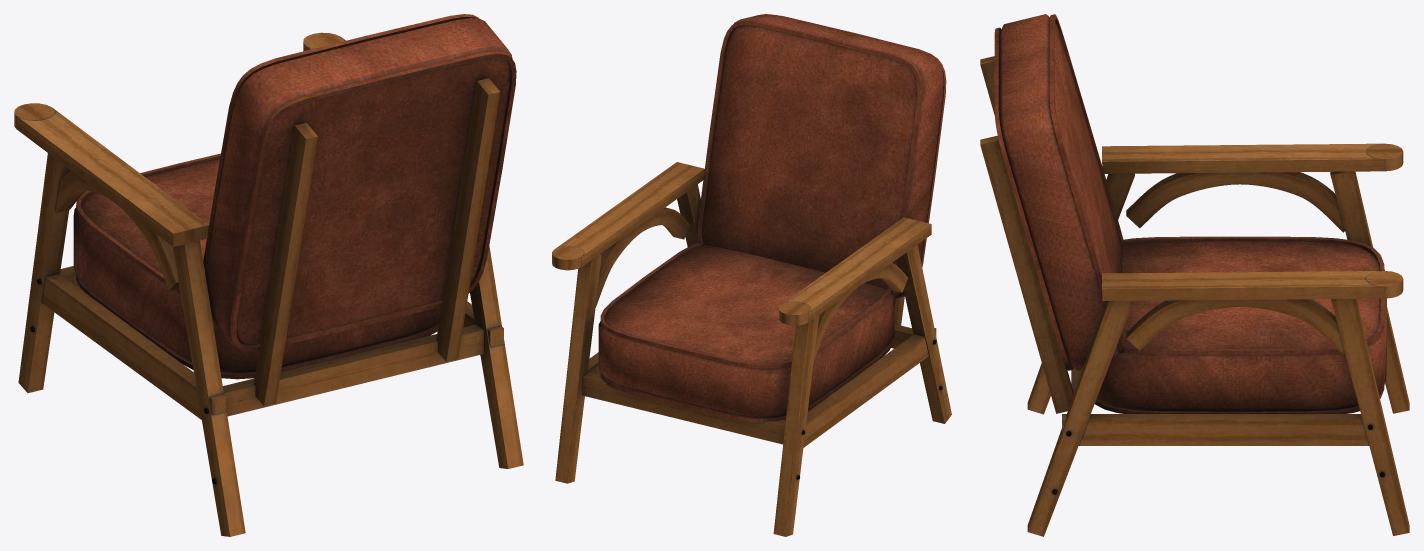
The model's file is armchair_box_web.glb.
3 views of the same model, side by side, from view 1: azimuth 30°, elevation 25°; view 2: azimuth 150°, elevation 25°; view 3: azimuth 270°, elevation 25° (orthographic). The views are drawn at different scales.
Visible parts, largest first — view 1: ArmchairBox_Body; view 2: ArmchairBox_Body; view 3: ArmchairBox_Body.
Boxes of the visible parts, bbox=[...] form: ArmchairBox_Body: bbox=[14, 14, 523, 536]; ArmchairBox_Body: bbox=[552, 14, 951, 536]; ArmchairBox_Body: bbox=[980, 14, 1409, 536].
Bounding box in the file's own units: 0.712 × 0.9631 × 0.9044.
Materials: 1 (1 with a texture image).
